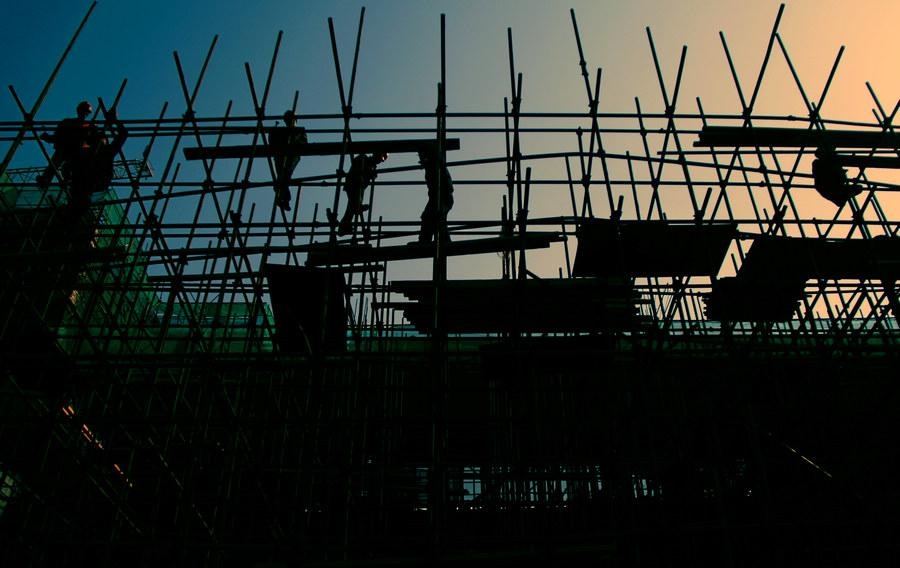helmet: (281, 106, 308, 128), (373, 145, 397, 164), (77, 103, 96, 120)
